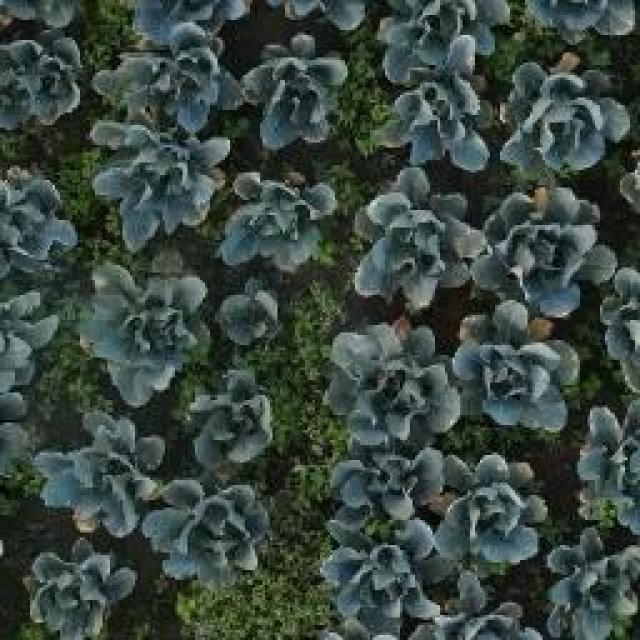cabbage: (88, 116, 238, 258), (85, 254, 220, 406), (351, 162, 486, 306), (496, 51, 635, 182), (319, 318, 462, 442), (481, 182, 615, 312), (33, 404, 164, 535), (138, 469, 271, 582), (88, 20, 244, 116), (326, 516, 447, 636), (227, 161, 342, 280), (436, 450, 546, 571), (365, 73, 496, 174), (243, 27, 355, 145), (455, 307, 567, 425), (375, 0, 511, 86), (22, 547, 140, 640), (182, 362, 284, 468), (547, 540, 640, 640), (333, 443, 440, 529), (0, 35, 92, 125), (0, 160, 75, 270), (210, 277, 292, 355)
